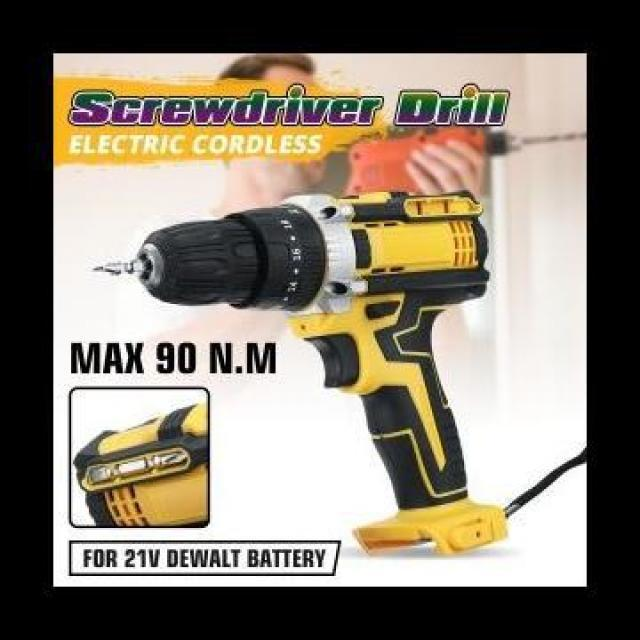drill: (91, 188, 512, 558), (74, 402, 208, 526), (344, 126, 526, 198)
